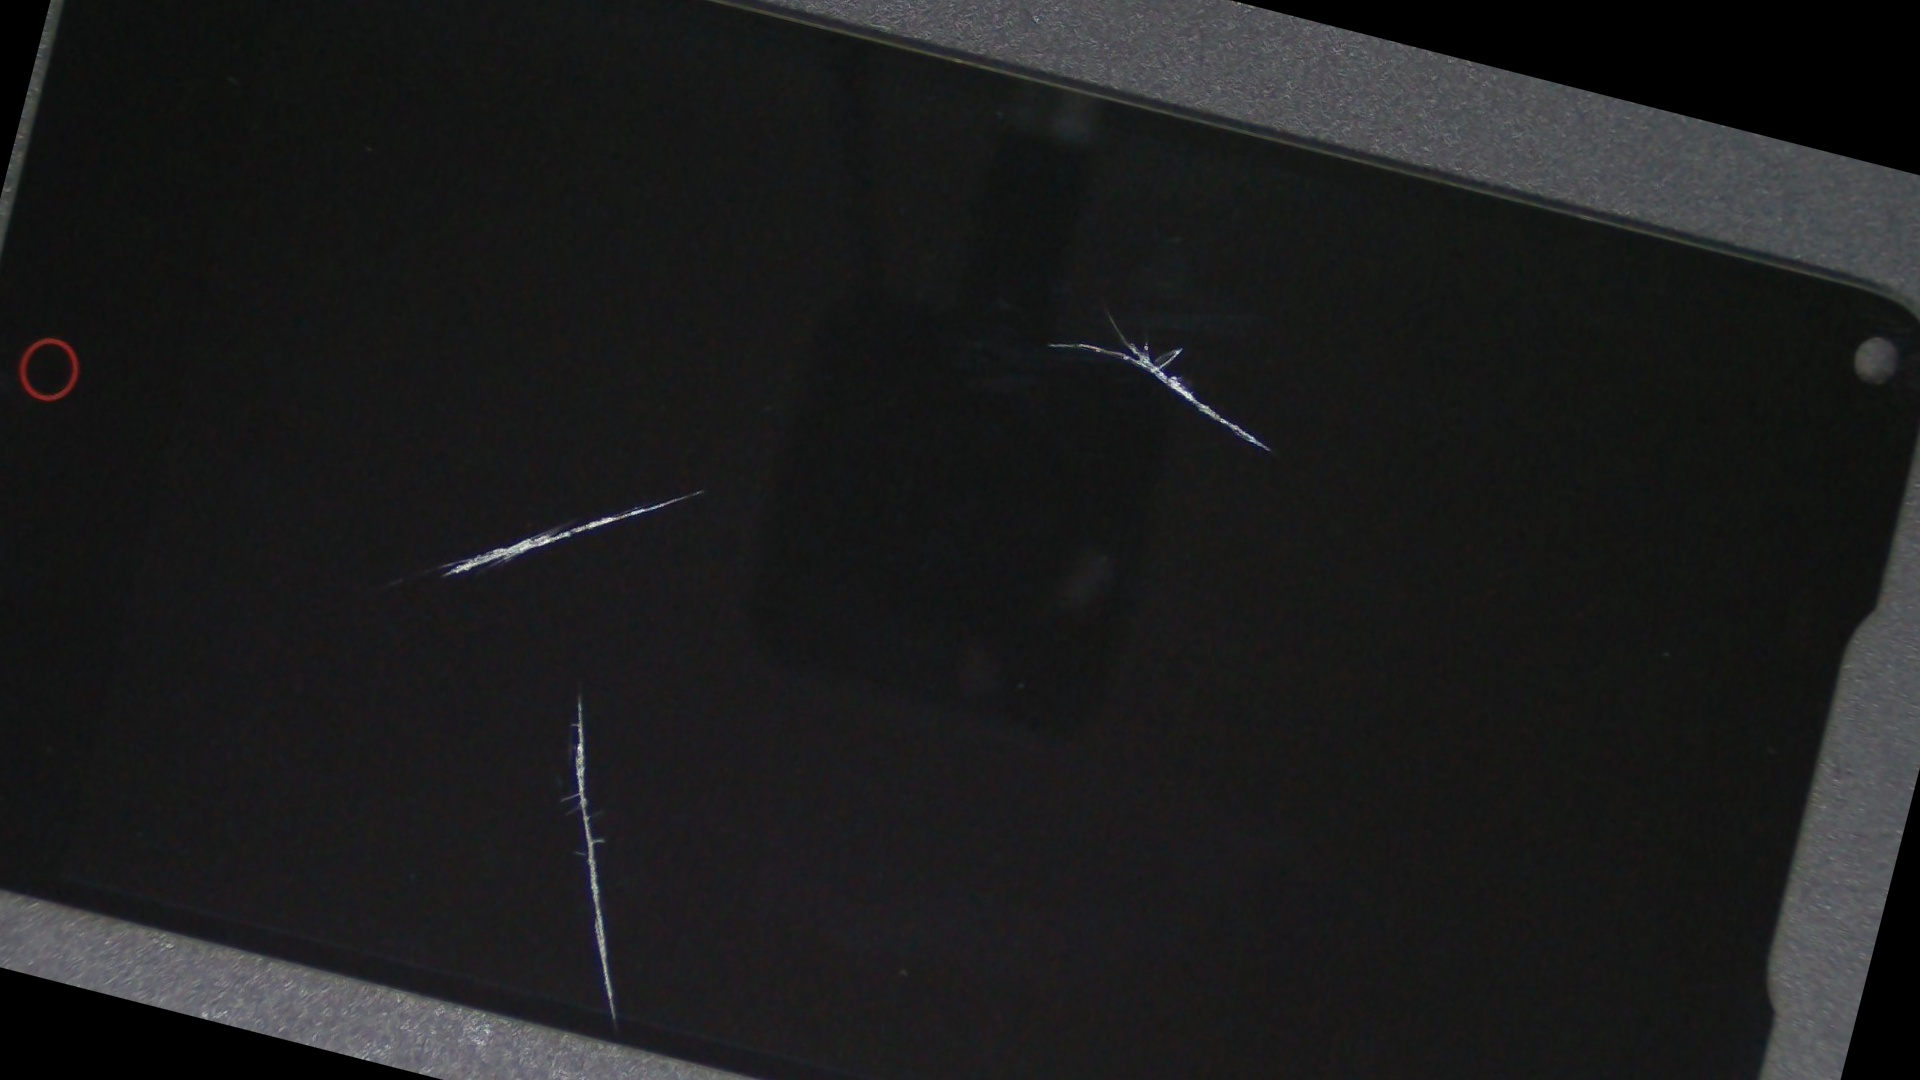oil: (146, 204, 1010, 1080), (533, 15, 1683, 608), (265, 103, 1142, 873)
